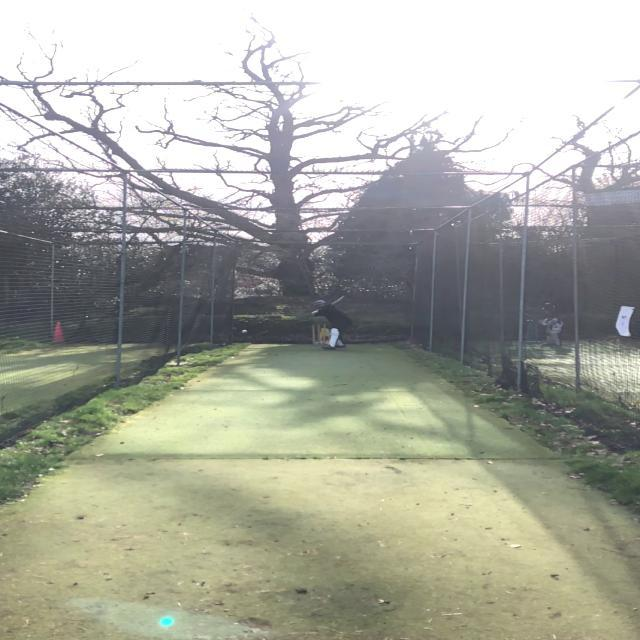ball: (240, 329, 248, 335)
